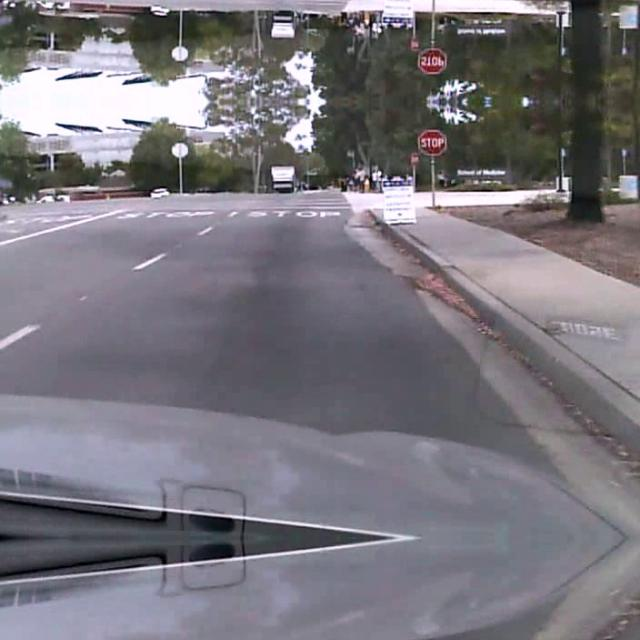stop: (417, 128, 447, 154), (417, 48, 447, 74)
